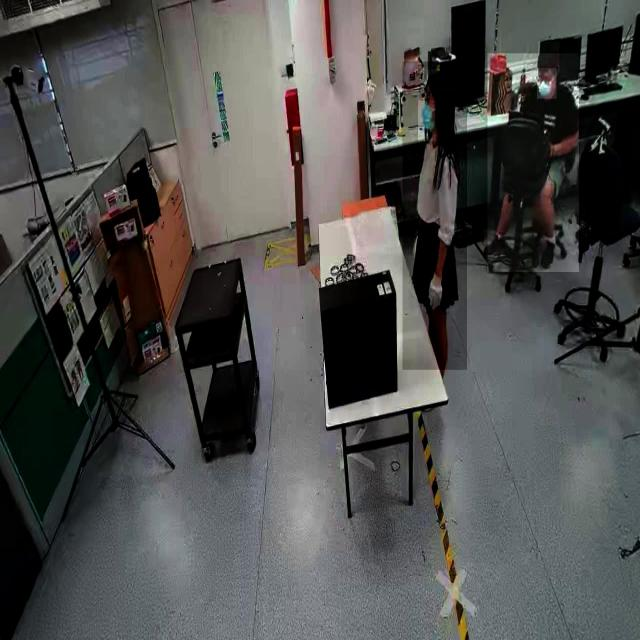face_mask: (418, 100, 438, 142), (536, 68, 556, 100)
hand_glove: (425, 266, 449, 316)
head_nohelmet: (426, 70, 456, 92), (538, 42, 560, 68)
person: (487, 53, 579, 273), (402, 61, 467, 371)
